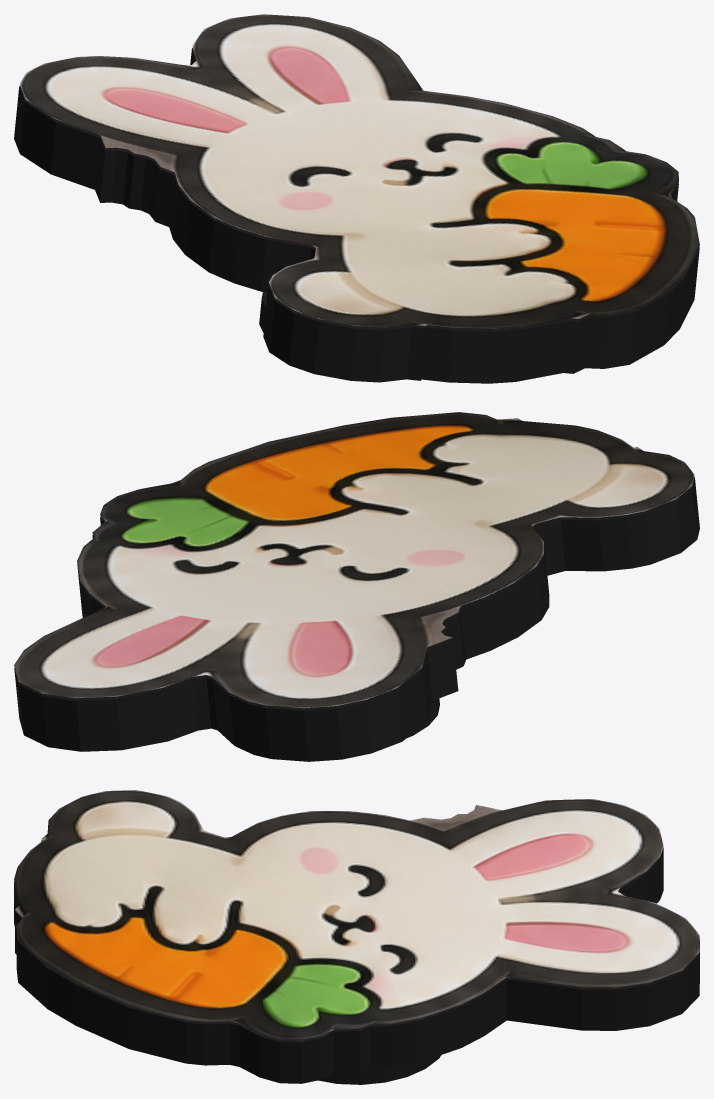
File: animals-rabbit.glb
3 renders of one model, top to bottom at view 1: azimuth 30°, elevation 25°; view 2: azimuth 150°, elevation 25°; view 3: azimuth 270°, elevation 25°, orthographic. The views are drawn at different scales.
Parts seen in each view (by area): view 1: ANIMALS_Rabbit_MODEL; view 2: ANIMALS_Rabbit_MODEL; view 3: ANIMALS_Rabbit_MODEL.
Part boxes in pixels (x1,y1,x2,y2): ANIMALS_Rabbit_MODEL: [14, 14, 699, 383]; ANIMALS_Rabbit_MODEL: [14, 412, 699, 761]; ANIMALS_Rabbit_MODEL: [14, 790, 699, 1084].
Size of the model in its own units: 0.2584 by 0.0958 by 0.3635.
3 materials, 1 textured.
